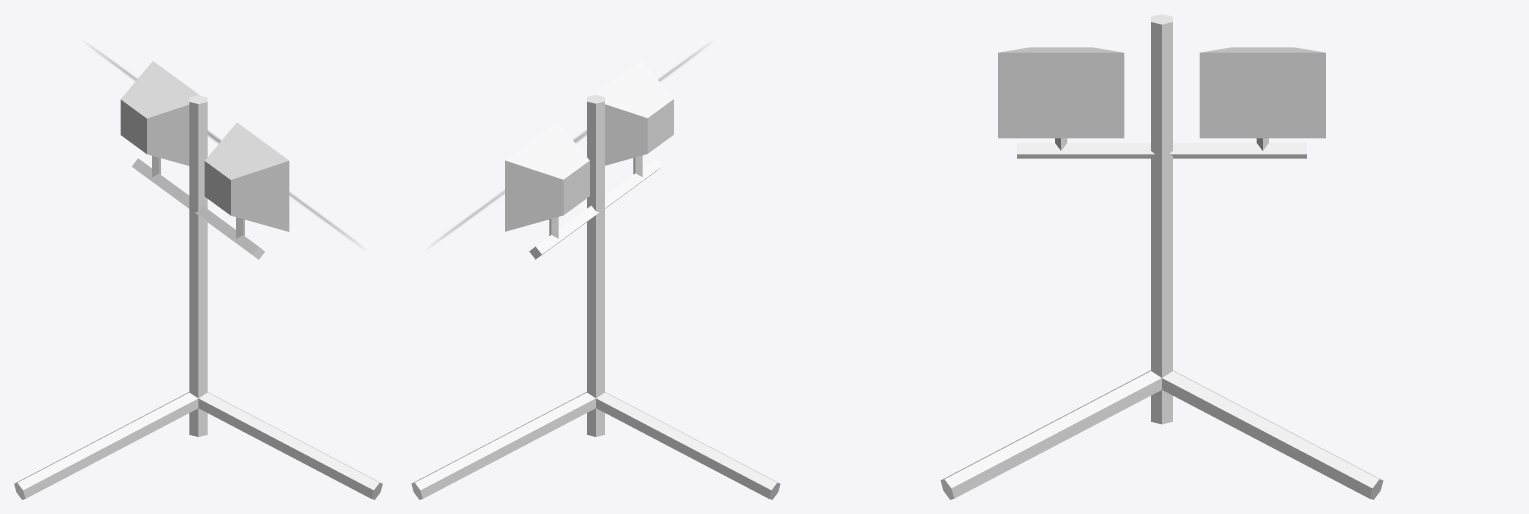
File: ldeco_floodlight.glb
3 renders of one model, left to right at view 1: azimuth 30°, elevation 25°; view 2: azimuth 150°, elevation 25°; view 3: azimuth 270°, elevation 25°, orthographic. The views are drawn at different scales.
Parts seen in each view (by area): view 1: Stand, Lamp_L, Lamp_R; view 2: Stand, Lamp_R, Lamp_L; view 3: Stand, Lamp_L, Lamp_R.
Part boxes in pixels (x1,y1,x2,y2): Stand: [14, 95, 382, 499]; Lamp_L: [204, 122, 289, 231]; Lamp_R: [120, 61, 199, 165]; Stand: [411, 95, 780, 499]; Lamp_R: [505, 122, 589, 231]; Lamp_L: [594, 60, 673, 165]; Stand: [940, 14, 1383, 499]; Lamp_L: [998, 47, 1124, 138]; Lamp_R: [1199, 47, 1325, 138].
Size of the model in its own units: 1.53 by 1.88 by 2.8.
Materials: 3 (1 with a texture image).
